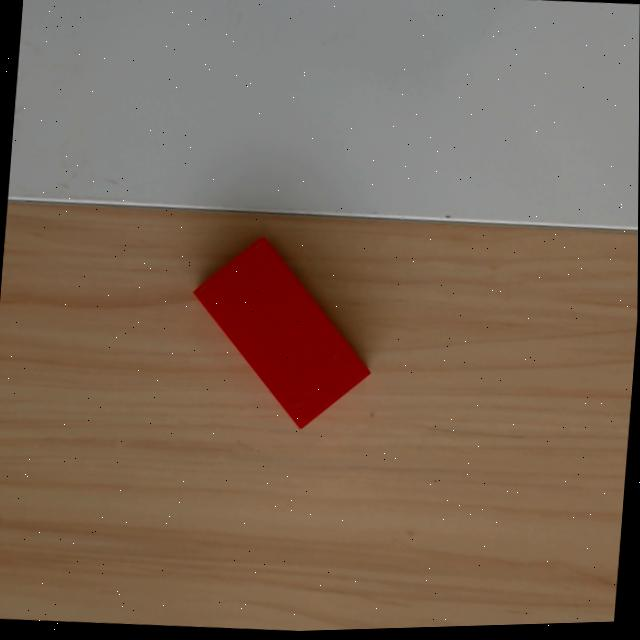Balok-Merah-1005025: (190, 233, 370, 429)
